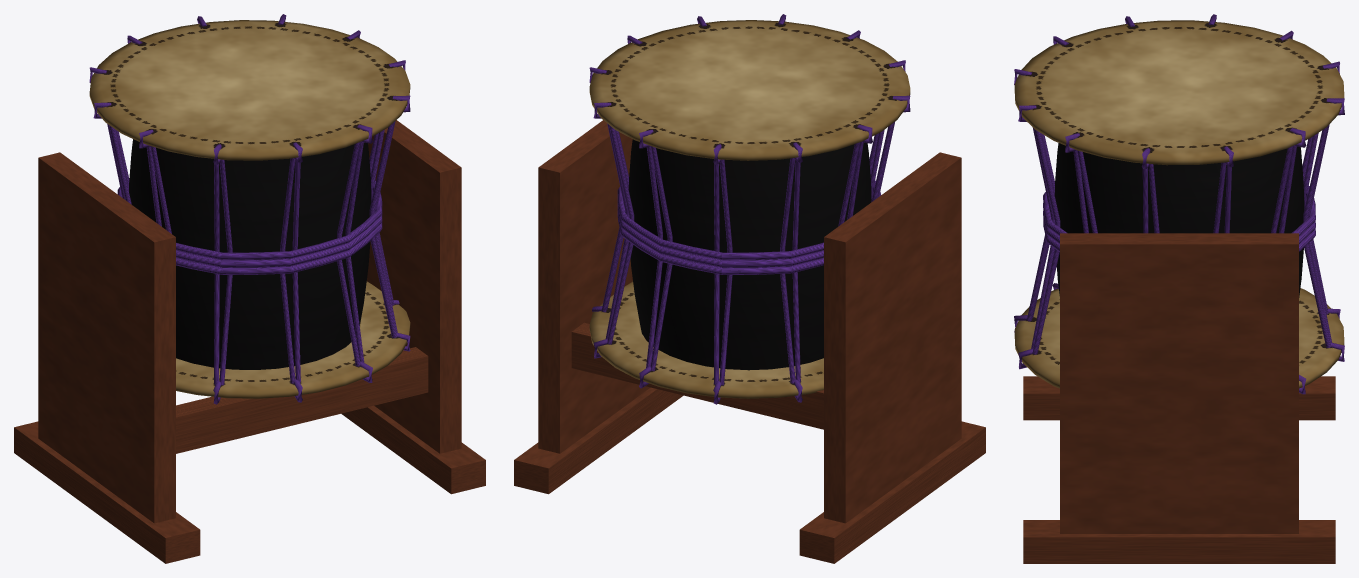
File: inst_shime.glb
3 views of the same model, side by side, from view 1: azimuth 30°, elevation 25°; view 2: azimuth 150°, elevation 25°; view 3: azimuth 270°, elevation 25° (orthographic). The views are drawn at different scales.
Parts seen in each view (by area): view 1: inst_shime; view 2: inst_shime; view 3: inst_shime.
Boxes of the visible parts, left/top/right/bottom form: inst_shime: left=14, top=14, right=485, bottom=563; inst_shime: left=514, top=14, right=985, bottom=563; inst_shime: left=1014, top=14, right=1344, bottom=563.
Size of the model in its own units: 0.415 by 0.48 by 0.3601.
1 material, 1 textured.
